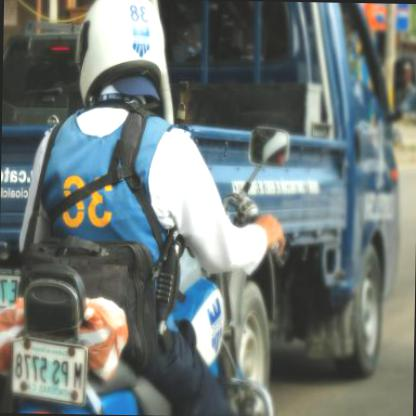motorcycle: (0, 42, 283, 415)
